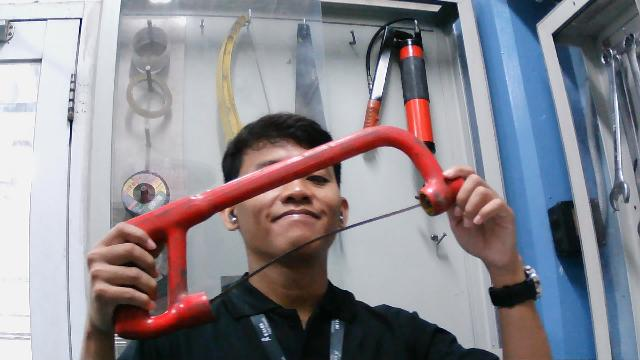gergaji_besi: (75, 121, 470, 343)
